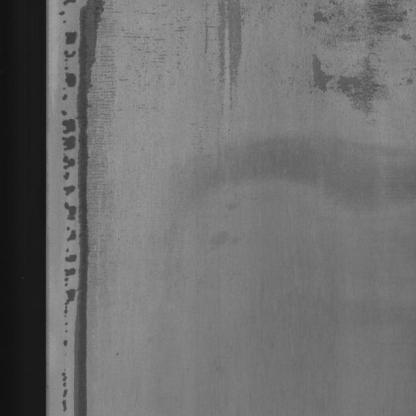oil_spot: (60, 2, 108, 407), (306, 5, 416, 124), (198, 0, 266, 103)
